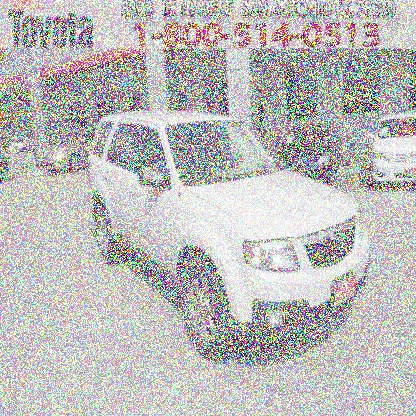Vehicle: (87, 112, 372, 363)
